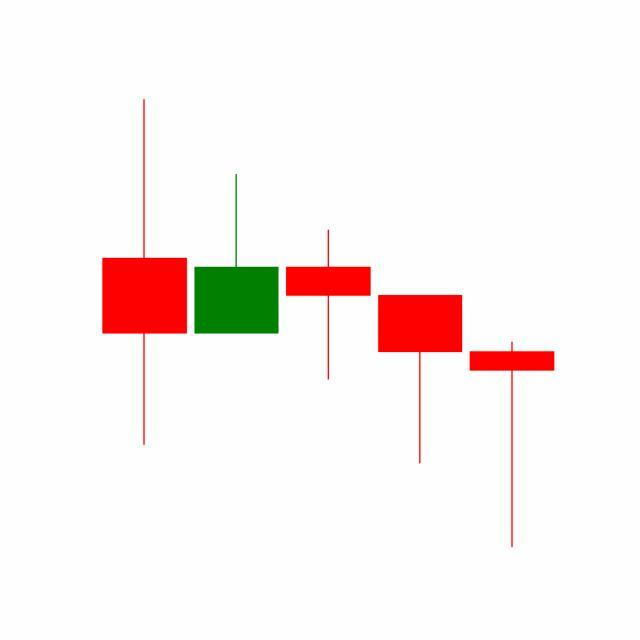Hammer: (374, 294, 468, 466)
